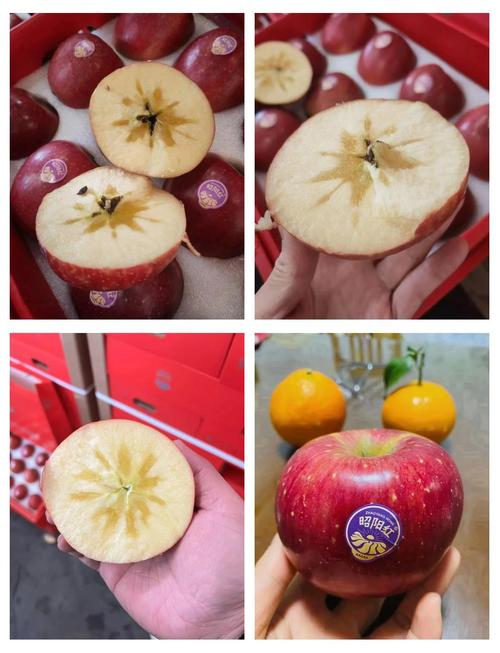ripe: (265, 410, 473, 608)
